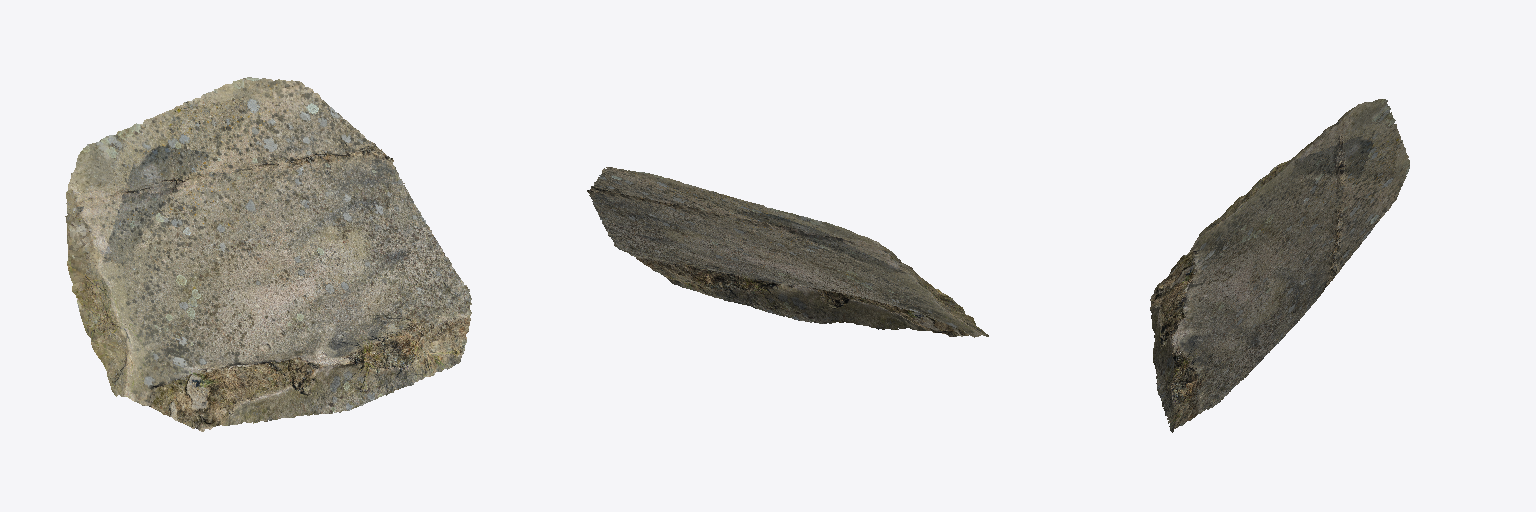
3 views of the same model, side by side, from view 1: azimuth 30°, elevation 25°; view 2: azimuth 150°, elevation 25°; view 3: azimuth 270°, elevation 25° (orthographic).
Size of the model in its own units: 0.6199 by 0.377 by 0.3793.
7 materials, 7 textured.